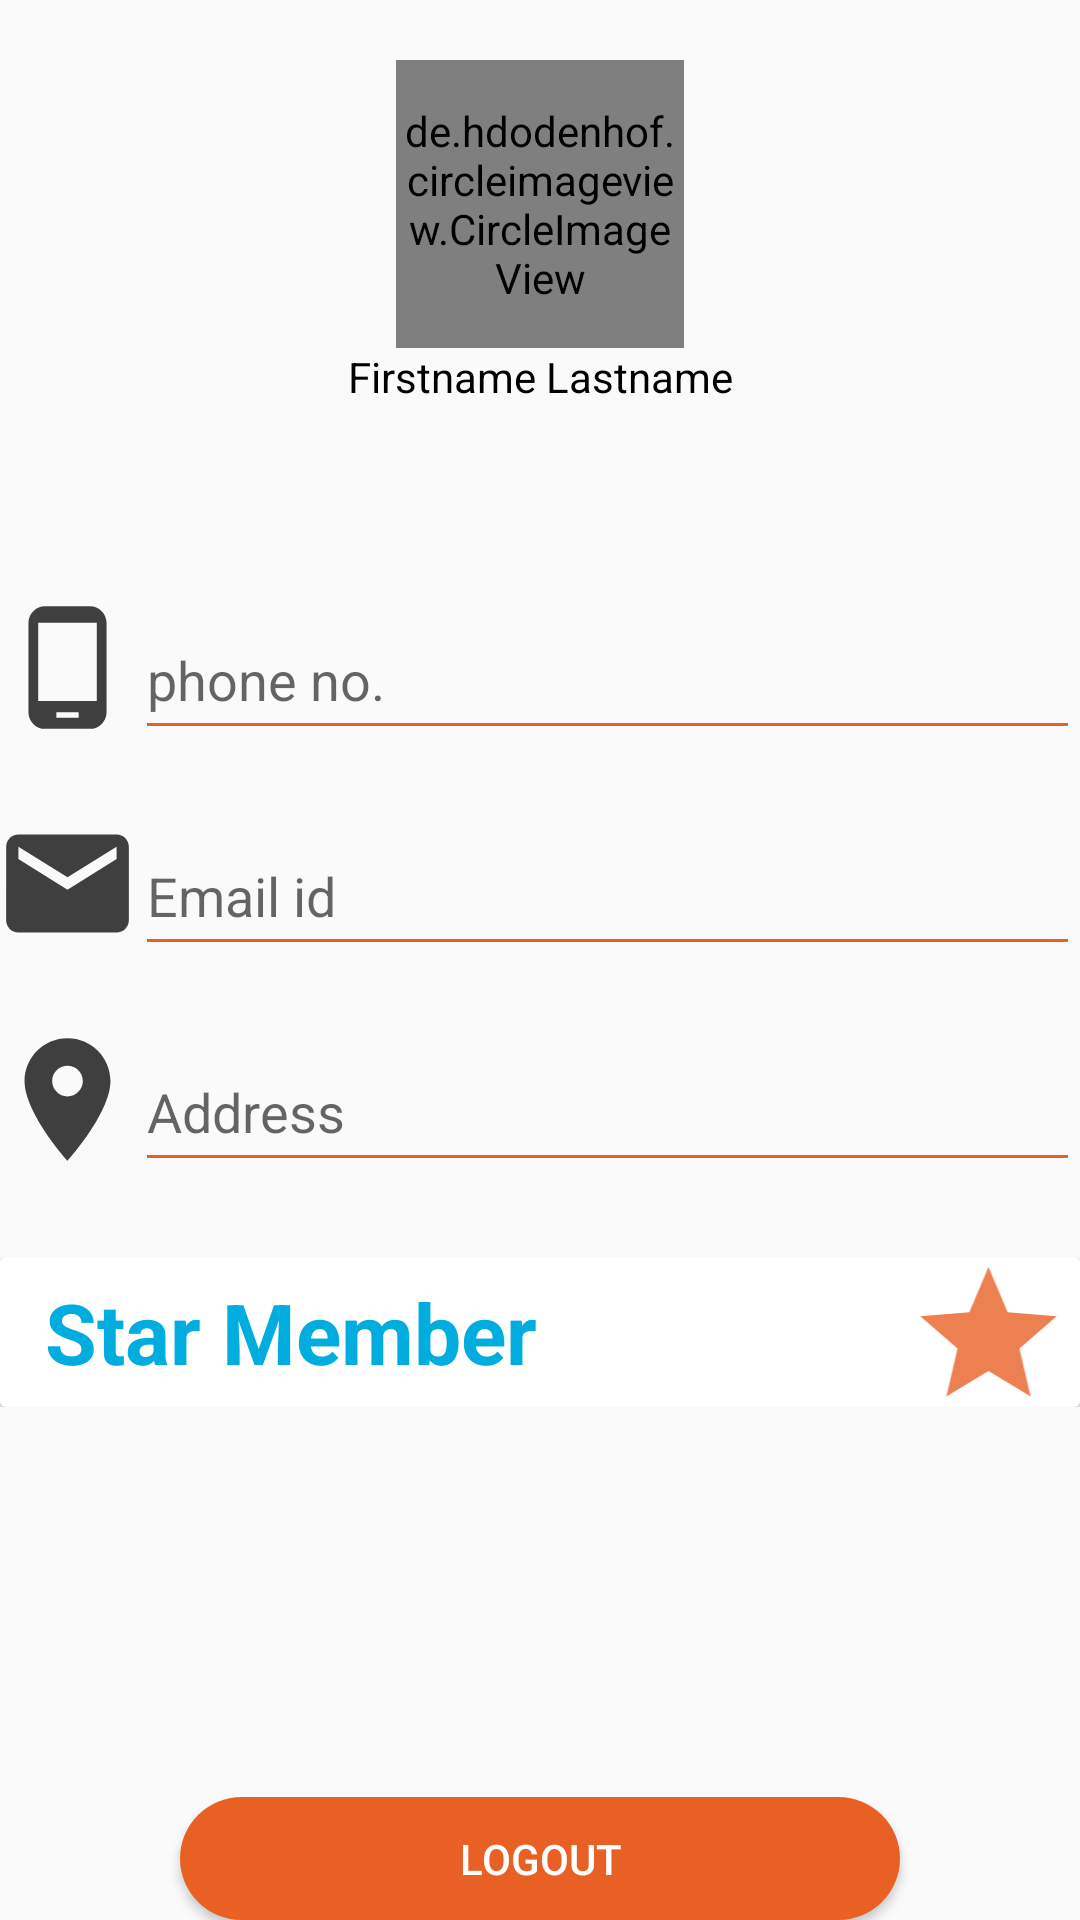

Named icons in this screenshot (1080w x 1920h) and their bounding boxes, (x1, y1, x2, y2):
phone number: (28, 606, 107, 729)
